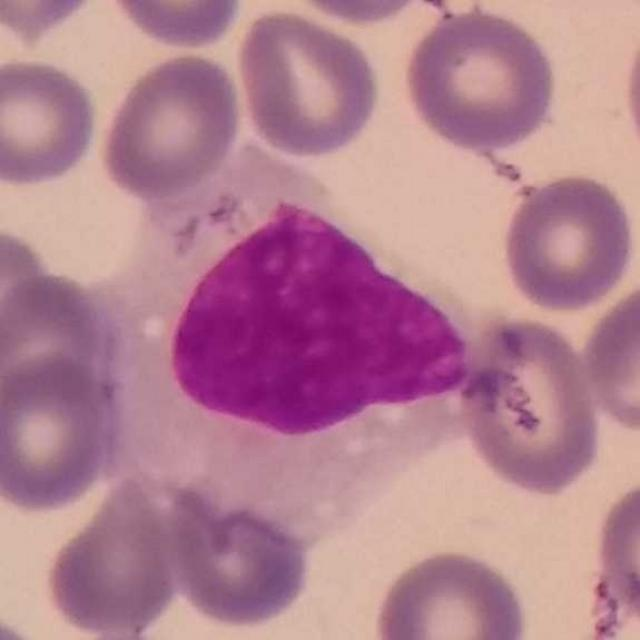Monocyte: (110, 150, 473, 553)
RBC: (455, 310, 606, 500), (39, 467, 187, 639), (400, 3, 563, 154), (233, 5, 384, 162), (160, 482, 316, 633), (95, 48, 246, 202), (0, 348, 130, 516), (497, 168, 639, 315), (0, 267, 122, 414), (370, 544, 532, 640), (0, 53, 102, 190), (577, 277, 640, 437), (0, 220, 58, 384), (585, 473, 640, 628), (101, 0, 248, 52), (276, 0, 436, 28), (0, 0, 101, 42), (617, 7, 640, 178)
